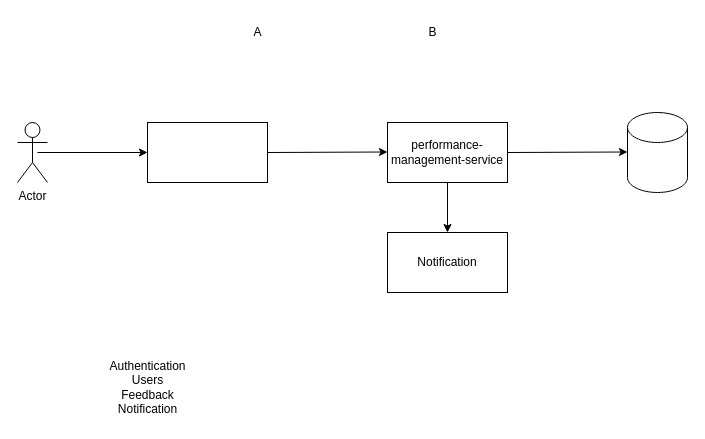
Some shapes in this 705 by 439 pixel diagram are drawn without their labels. The centre of each missing label's shape, as x and y in pixels:
"MongoDB" goes at (x=657, y=152).
"Performance-mangement-ui" goes at (x=207, y=152).
